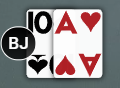10: (26, 9, 54, 36)
a: (52, 9, 78, 37)
